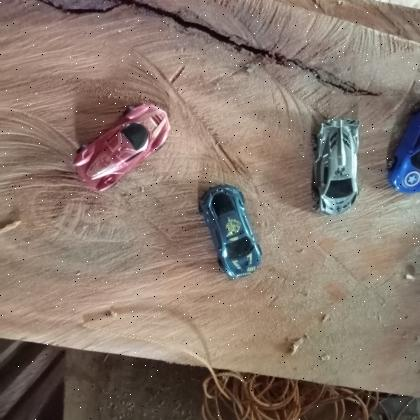Car: (72, 100, 172, 194), (198, 184, 264, 280), (311, 116, 361, 218)
